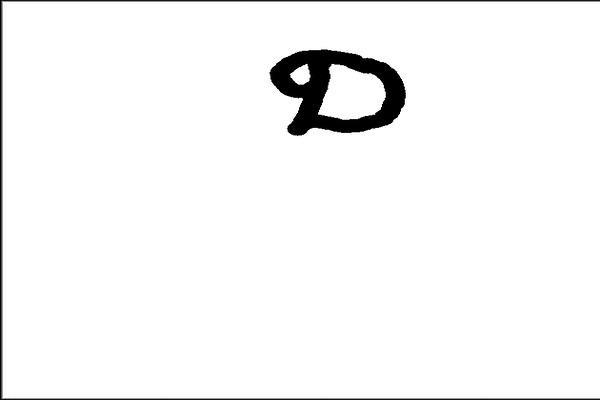D: (266, 39, 409, 148)
